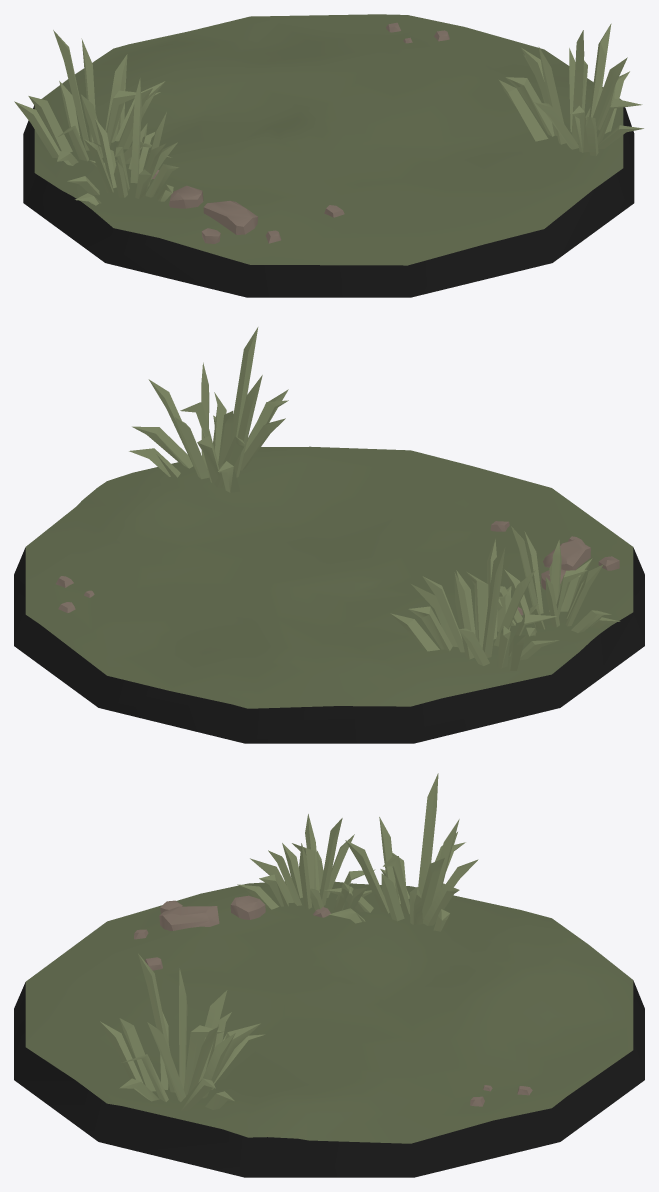
File: _stand.glb
3 views of the same model, one above another, from view 1: azimuth 30°, elevation 25°; view 2: azimuth 150°, elevation 25°; view 3: azimuth 270°, elevation 25° (orthographic). The views are drawn at different scales.
Parts seen in each view (by area): view 1: SM_Base_Grass_01; view 2: SM_Base_Grass_01; view 3: SM_Base_Grass_01.
Boxes of the visible parts, box(x1,y1,x2,y2) form: SM_Base_Grass_01: box(14, 14, 643, 297); SM_Base_Grass_01: box(14, 327, 644, 743); SM_Base_Grass_01: box(14, 773, 644, 1177).
Size of the model in its own units: 2.58 by 0.7759 by 2.56.
1 material, 1 textured.
